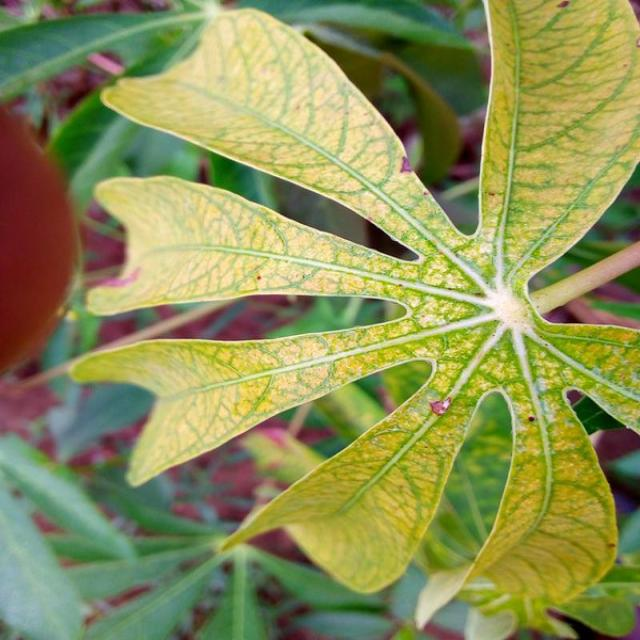cassava leaf: (68, 0, 638, 631)
